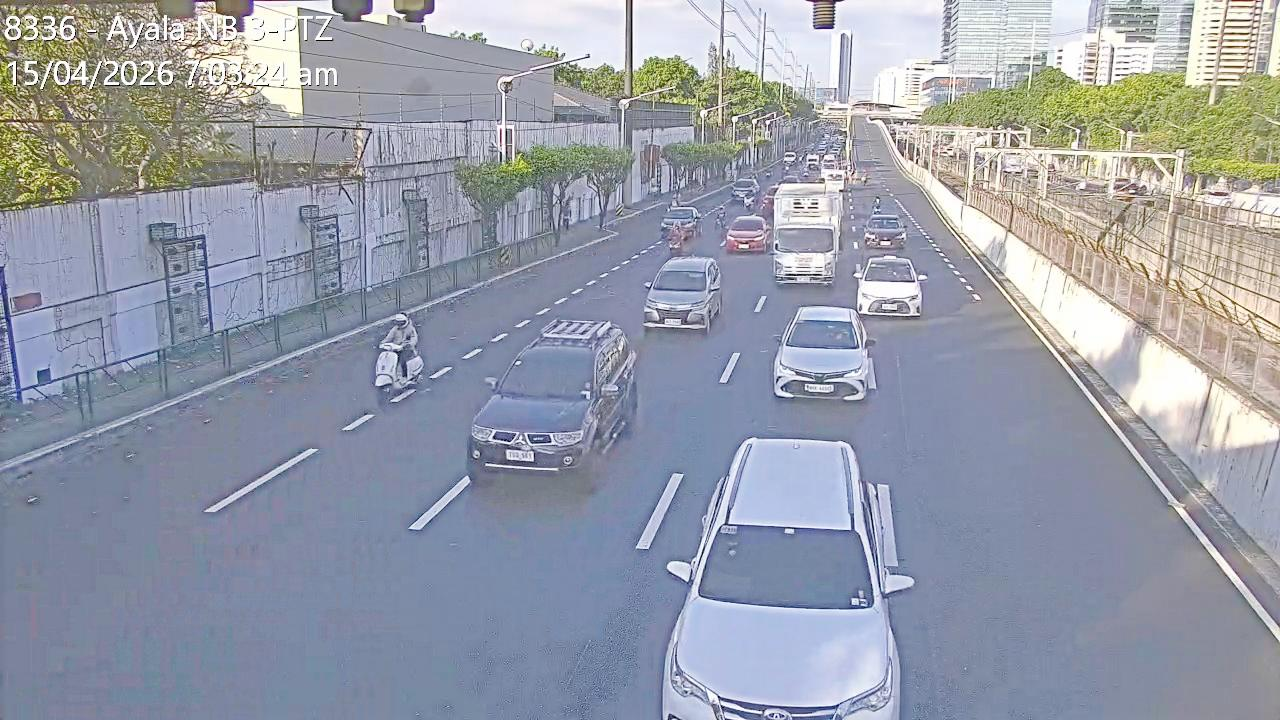Car: (656, 438, 903, 715), (467, 320, 633, 485), (770, 302, 877, 401), (642, 253, 724, 332), (853, 255, 924, 318), (722, 214, 772, 255), (658, 203, 703, 247), (861, 213, 908, 251), (731, 177, 761, 205), (758, 183, 781, 218)
Motor: (372, 332, 425, 402)
Not Accident: (848, 220, 928, 320)
